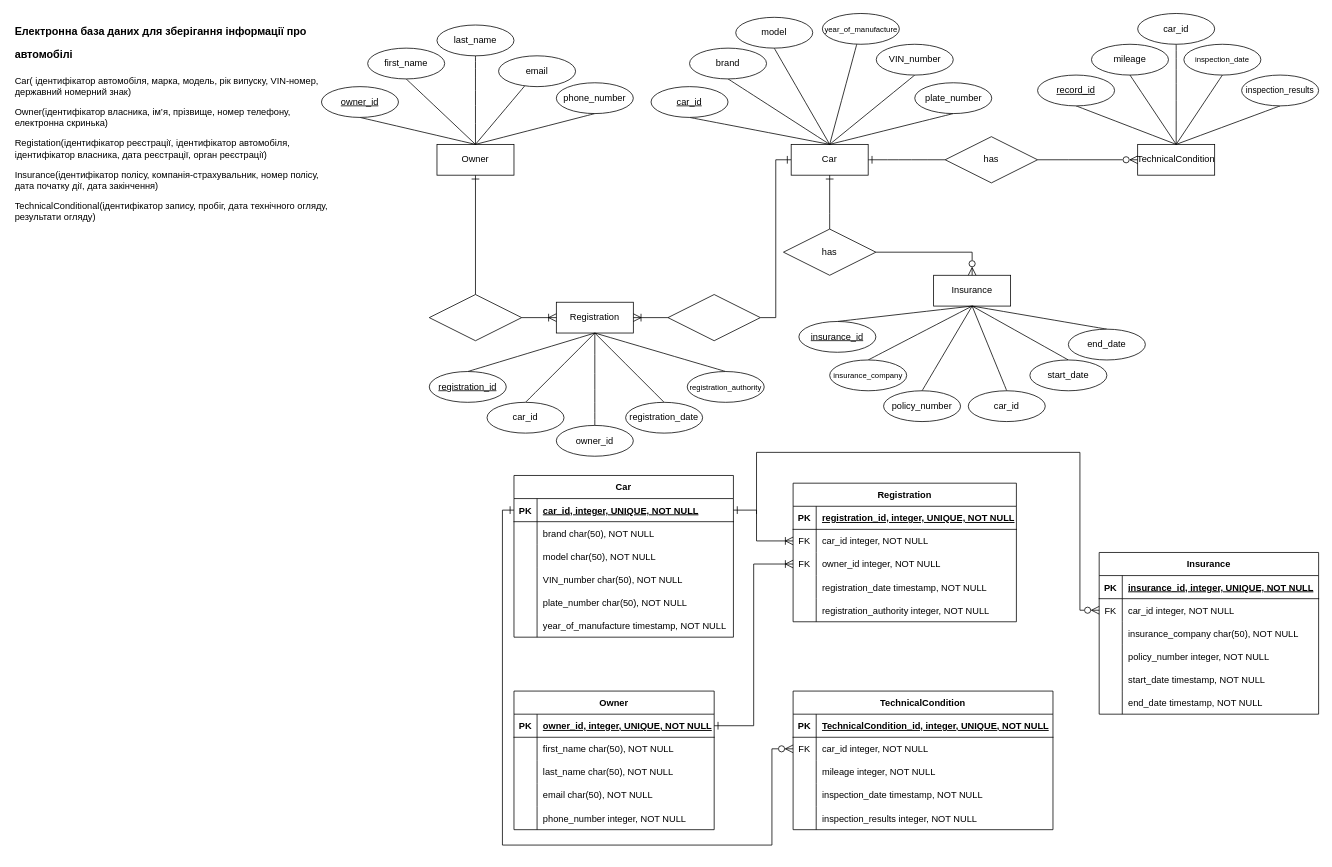
This 1332x867 diagram has some shape labels left out. The shapes that lost their labels are listed below. From the top down, each one's centre as x and y in pixels, then its label:
point (475, 317): carries out
point (713, 317): issued on
